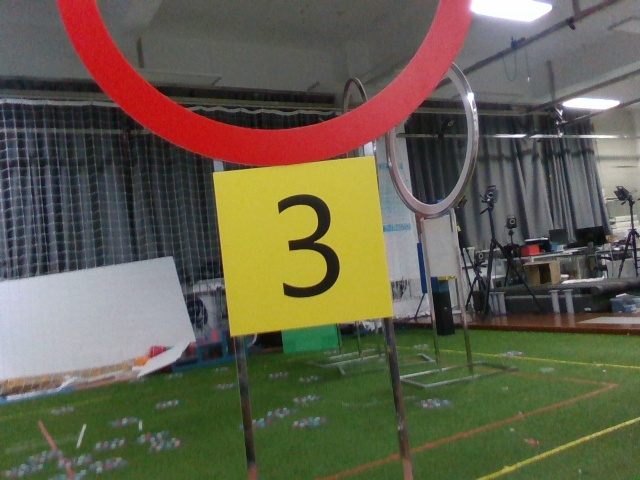target: (218, 162, 383, 327)
